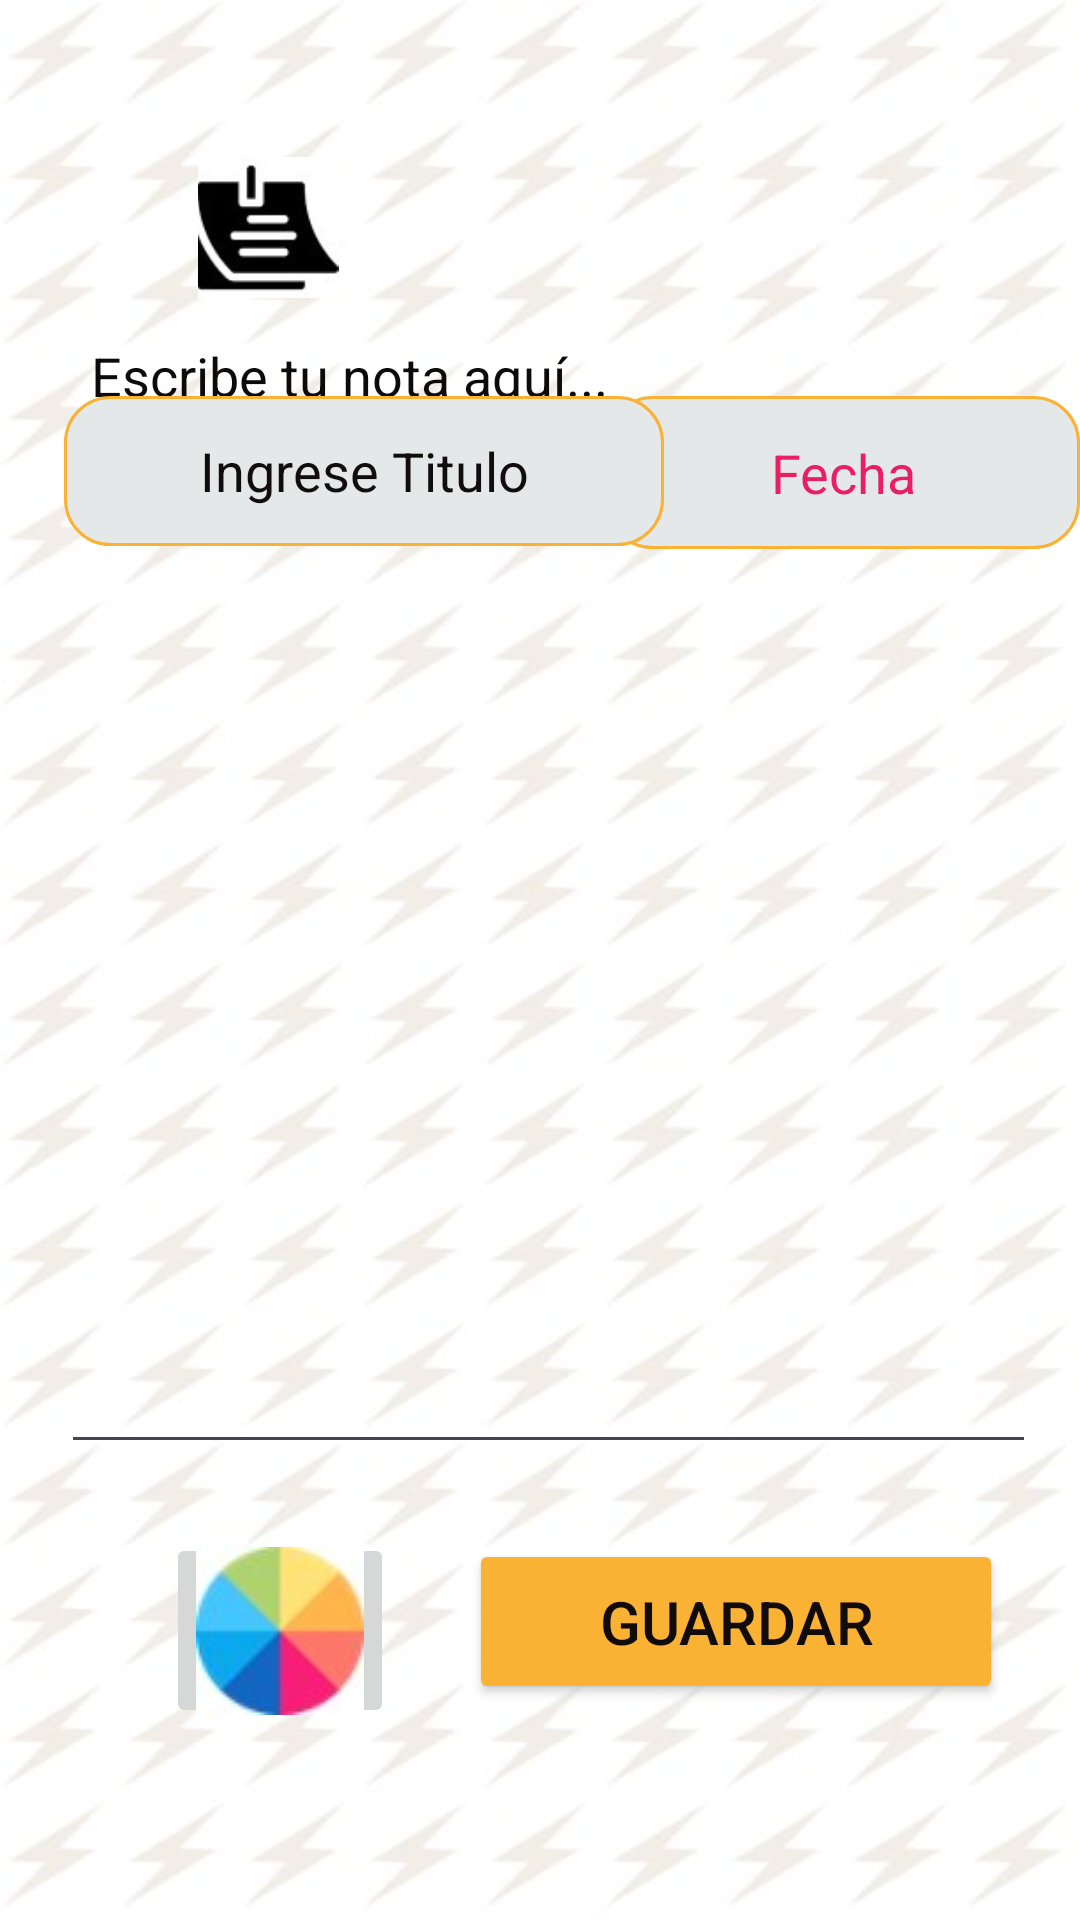

Icons on this 1080 x 1920 Android screen, each with its box as BBox(x1, y1, x2, y2):
Seleccionar Color: BBox(166, 1547, 382, 1726)
